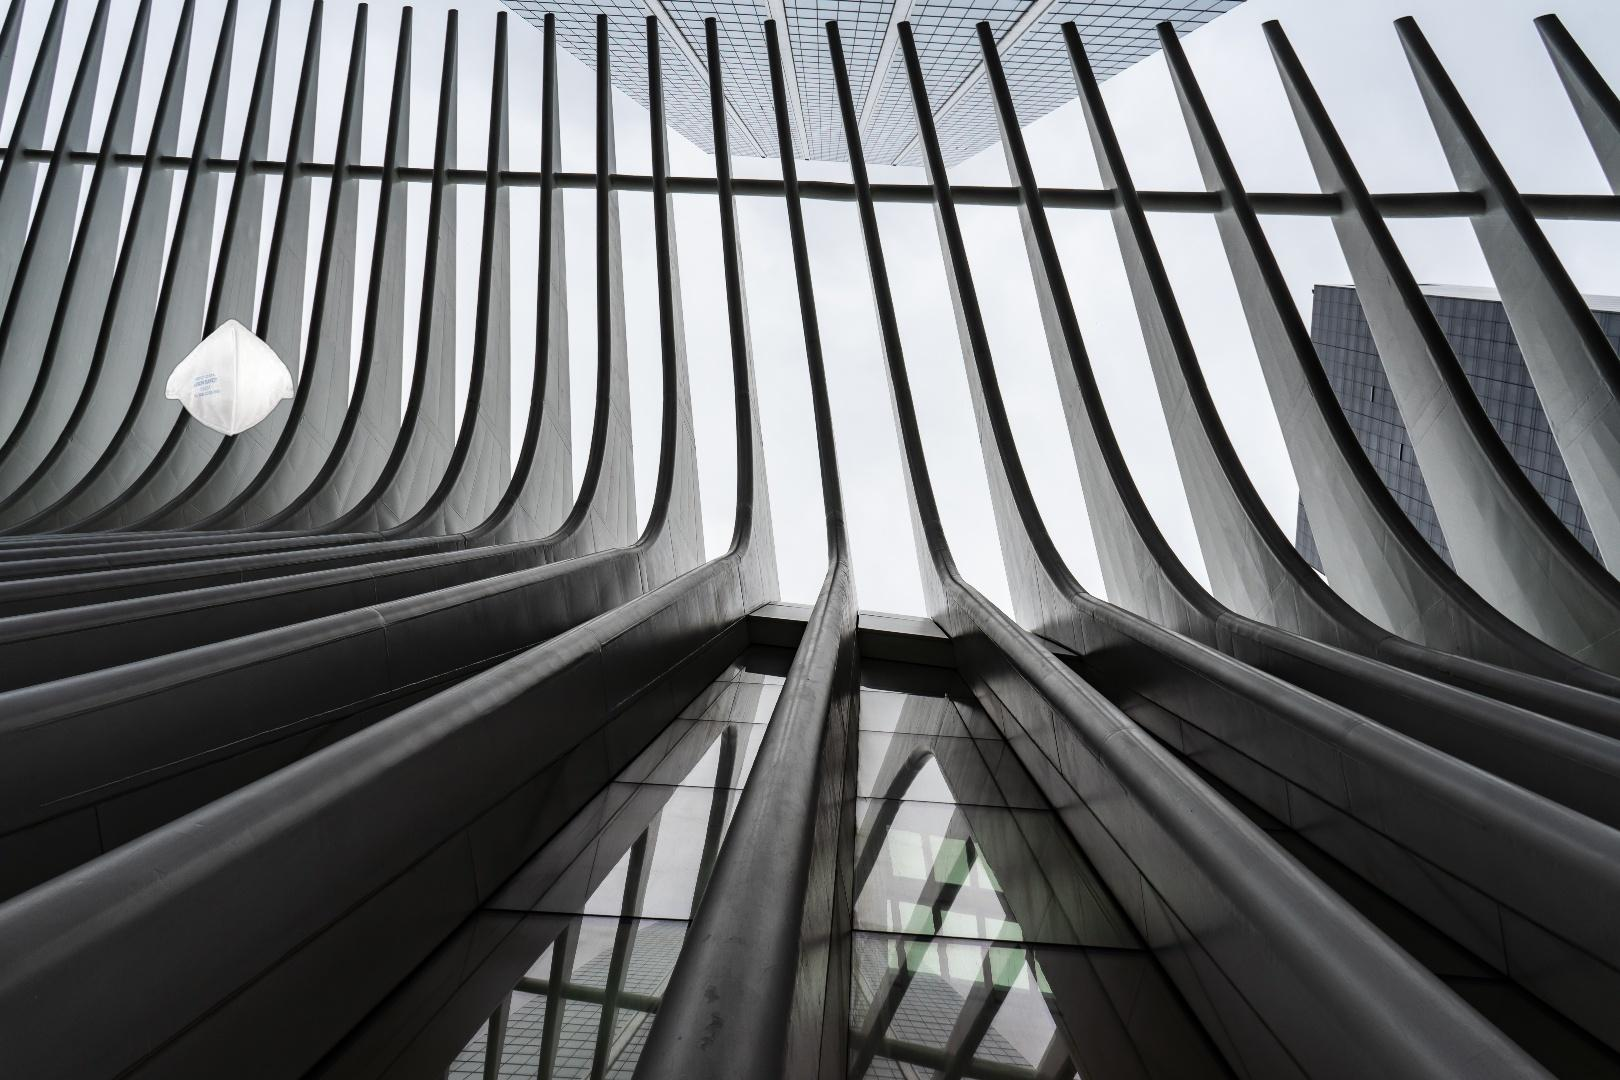trash: (162, 316, 297, 439)
